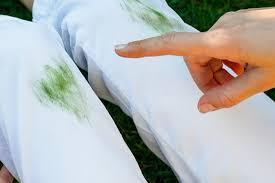earth: (41, 67, 71, 102), (144, 11, 171, 30)
